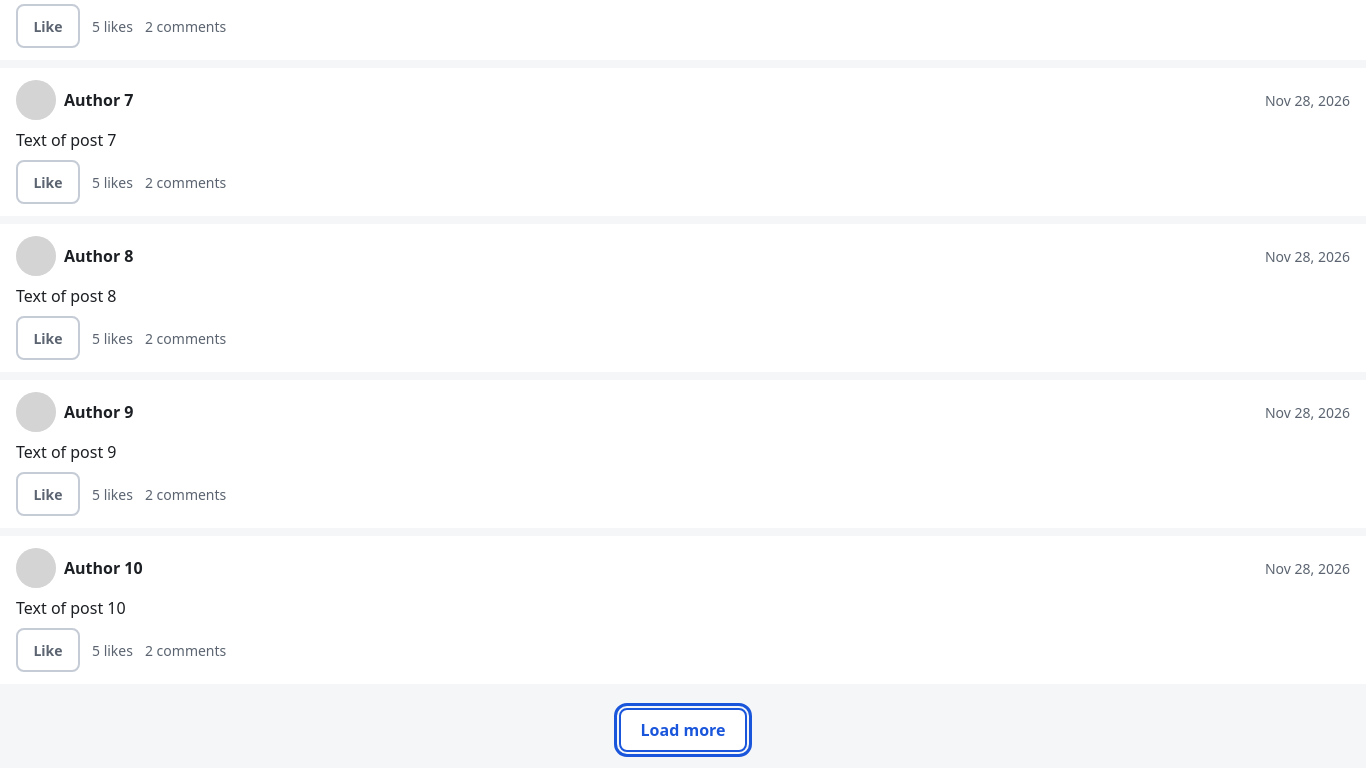
Feed: loading more › keeps the same button on the page while a page loads, so the focus is not lost
This screenshot has width=1366, height=768.
Click the button "Load more" at (683, 730), box [618,708,747,752]
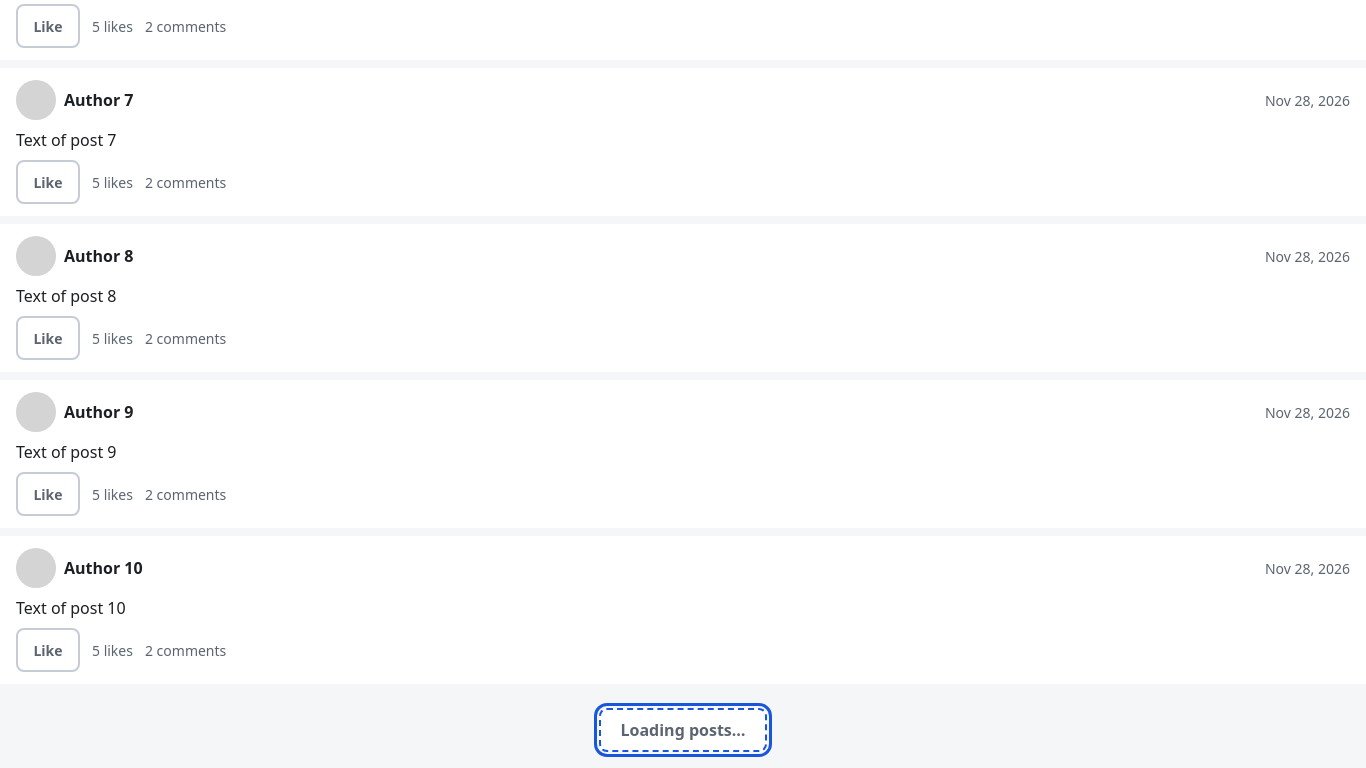
expect the button named "Load more" reads "Loading posts…": met
Note: A press while the page loads sends nothing.
Click the button named "Load more" at (683, 730), box [598,708,768,752]
(page scrolled)
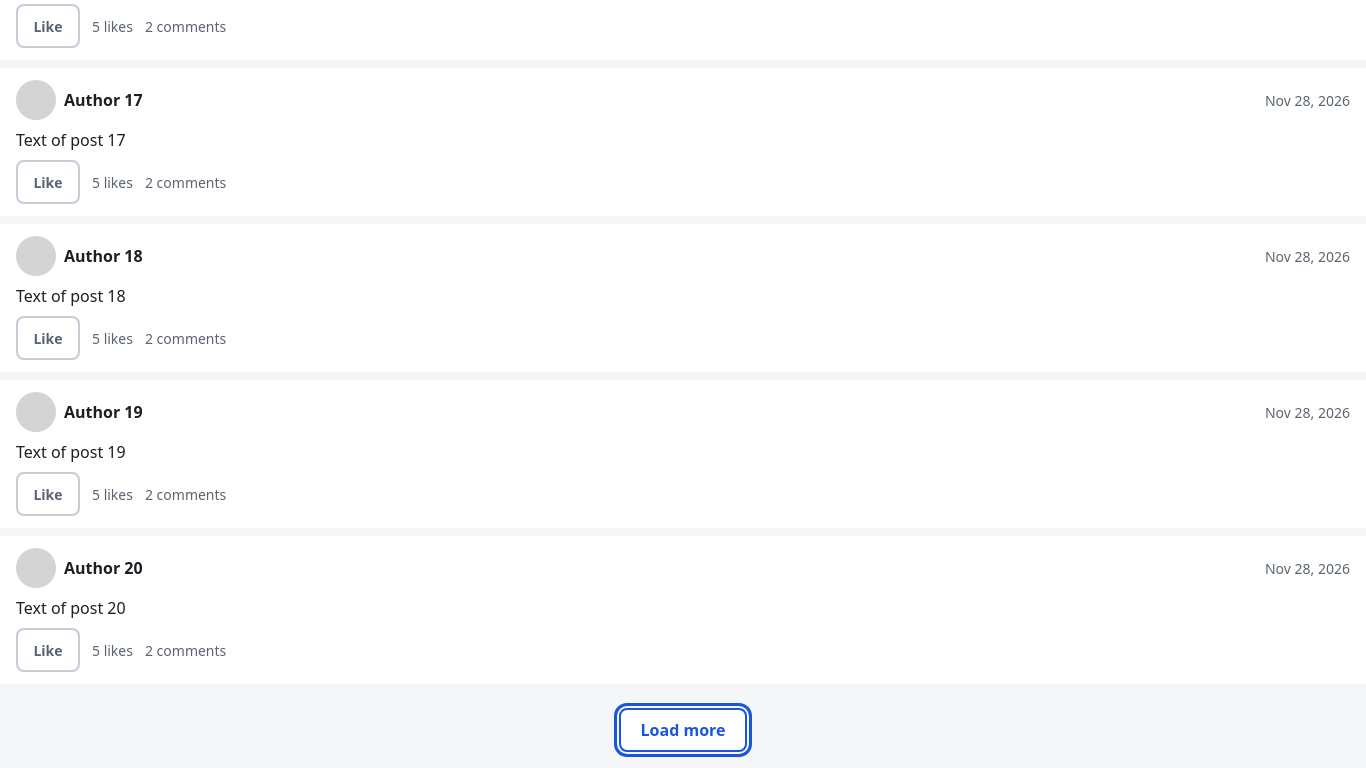
expect the button "Load more" is shown: met, box [618,708,747,752]
